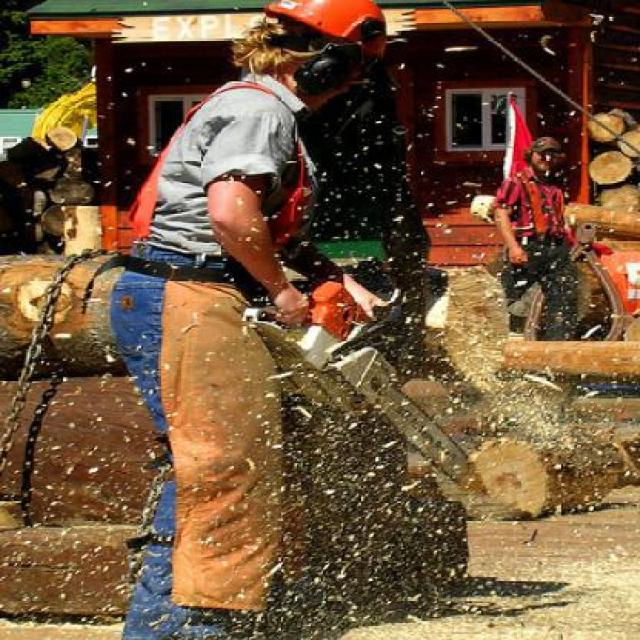Chainsaw: (289, 274, 485, 494)
